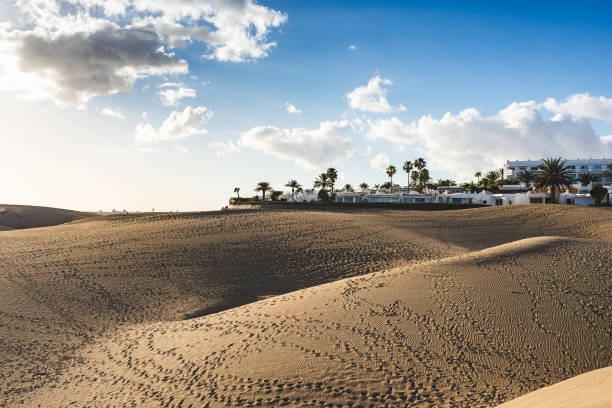human_footprint: (5, 275, 411, 407), (200, 302, 560, 388), (18, 215, 366, 285)
